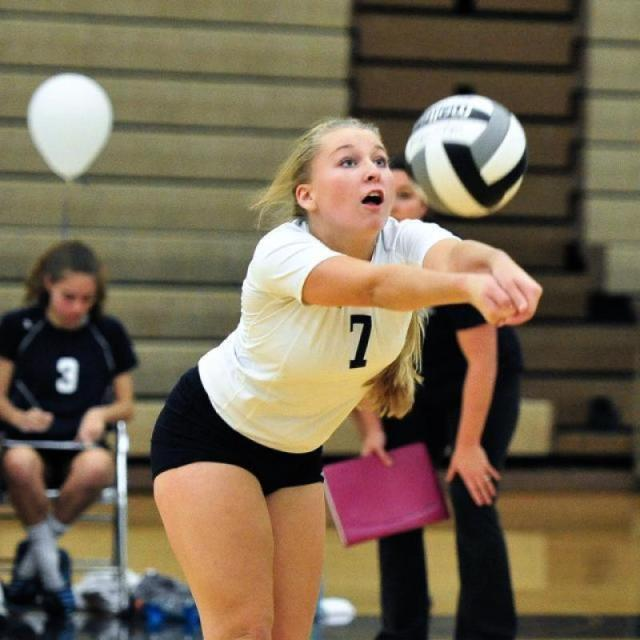volleyball: (402, 92, 530, 216)
